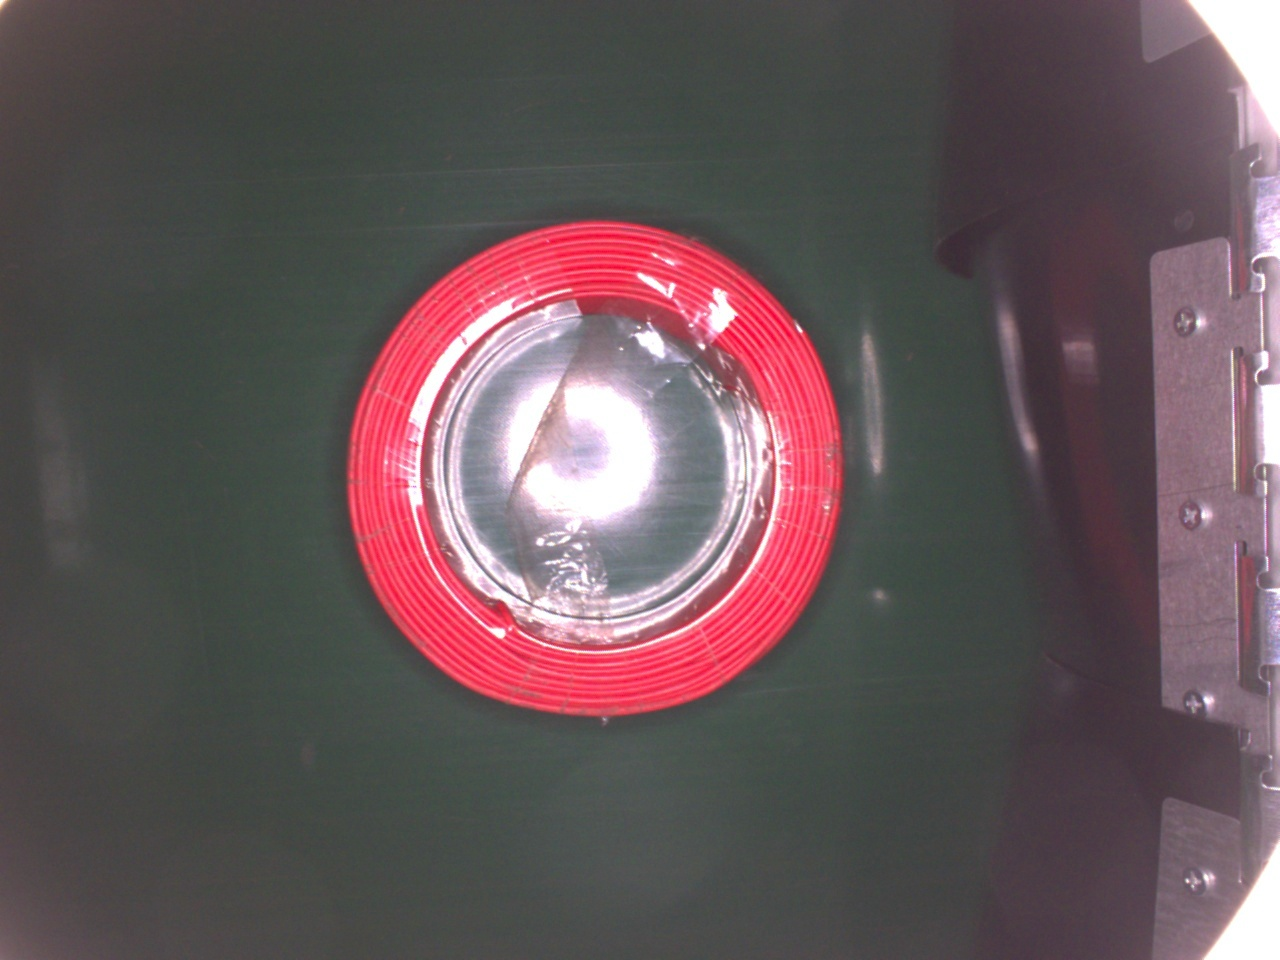red: (342, 214, 847, 726)
